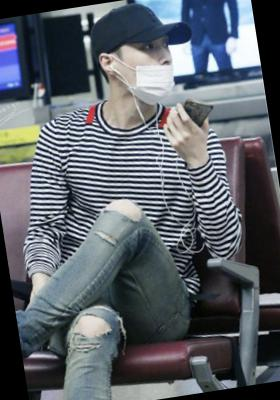mask_weared_incorrect: (109, 37, 179, 110)
